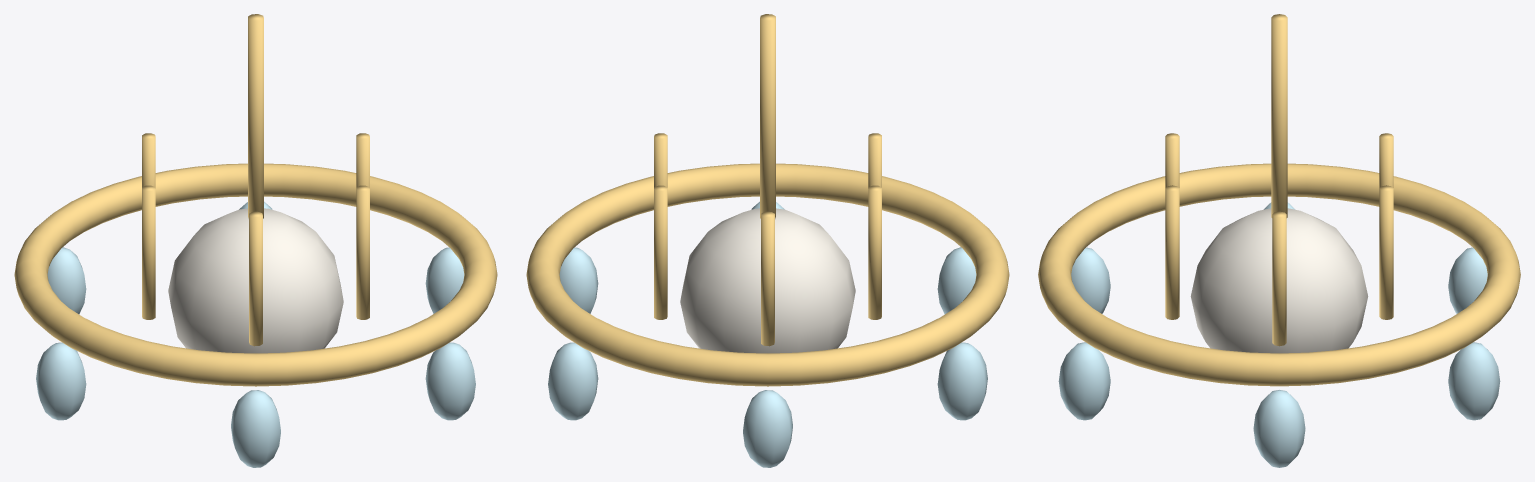
Rendered from opera_chandelier.glb.
3 renders of one model, left to right at view 1: azimuth 30°, elevation 25°; view 2: azimuth 150°, elevation 25°; view 3: azimuth 270°, elevation 25°, orthographic.
Parts seen in each view (by area): view 1: ring, bulb, chain, drop.004, drop.005, drop.003, arm.003, arm.004, arm.005, drop, drop.002, arm (+1 smaller); view 2: ring, bulb, chain, drop.002, drop.001, drop.003, arm.003, arm.001, arm.002, drop, drop.004, arm (+1 smaller); view 3: ring, bulb, chain, drop, drop.001, drop.005, arm, arm.001, arm.005, drop.002, drop.004, arm.002 (+1 smaller).
Part boxes in pixels (left/top/right/bottom): ring: left=14, top=163, right=497, bottom=386; bulb: left=168, top=208, right=343, bottom=353; chain: left=248, top=14, right=263, bottom=218; drop.004: left=231, top=390, right=280, bottom=467; drop.005: left=425, top=342, right=475, bottom=420; drop.003: left=36, top=342, right=86, bottom=420; arm.003: left=142, top=185, right=155, bottom=319; arm.004: left=249, top=211, right=262, bottom=346; arm.005: left=356, top=185, right=369, bottom=319; drop: left=425, top=247, right=464, bottom=313; drop.002: left=47, top=247, right=86, bottom=314; arm: left=356, top=133, right=369, bottom=188; ring: left=526, top=163, right=1009, bottom=386; bulb: left=680, top=208, right=855, bottom=353; chain: left=760, top=14, right=775, bottom=218; drop.002: left=743, top=390, right=792, bottom=467; drop.001: left=548, top=342, right=598, bottom=420; drop.003: left=937, top=342, right=987, bottom=420; arm.003: left=868, top=185, right=881, bottom=319; arm.001: left=654, top=185, right=667, bottom=319; arm.002: left=761, top=211, right=774, bottom=346; drop: left=559, top=247, right=598, bottom=313; drop.004: left=937, top=247, right=976, bottom=314; arm: left=654, top=133, right=667, bottom=188; ring: left=1038, top=163, right=1520, bottom=386; bulb: left=1190, top=208, right=1368, bottom=353; chain: left=1271, top=14, right=1287, bottom=217; drop: left=1253, top=390, right=1305, bottom=467; drop.001: left=1448, top=342, right=1500, bottom=420; drop.005: left=1058, top=342, right=1110, bottom=420; arm: left=1272, top=211, right=1286, bottom=346; arm.001: left=1379, top=185, right=1393, bottom=319; arm.005: left=1165, top=185, right=1179, bottom=319; drop.002: left=1448, top=247, right=1487, bottom=313; drop.004: left=1071, top=247, right=1110, bottom=313; arm.002: left=1379, top=133, right=1393, bottom=187.
Size of the model in its own units: 4.24 by 3.35 by 4.08.
